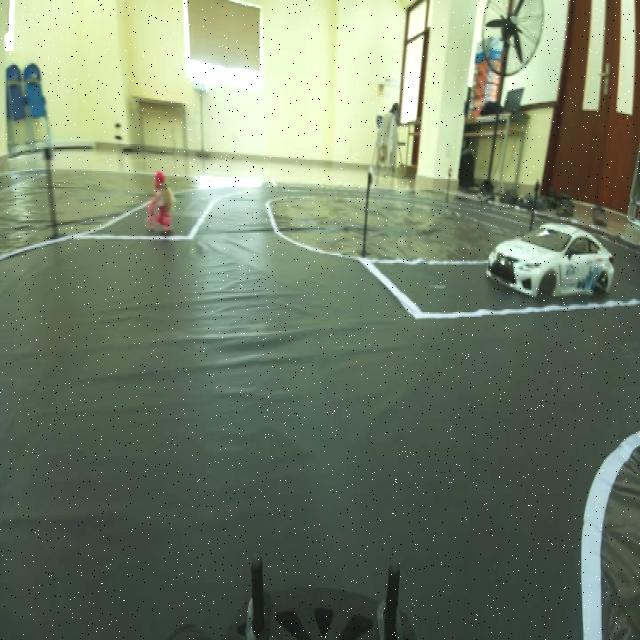car: (486, 223, 616, 306)
